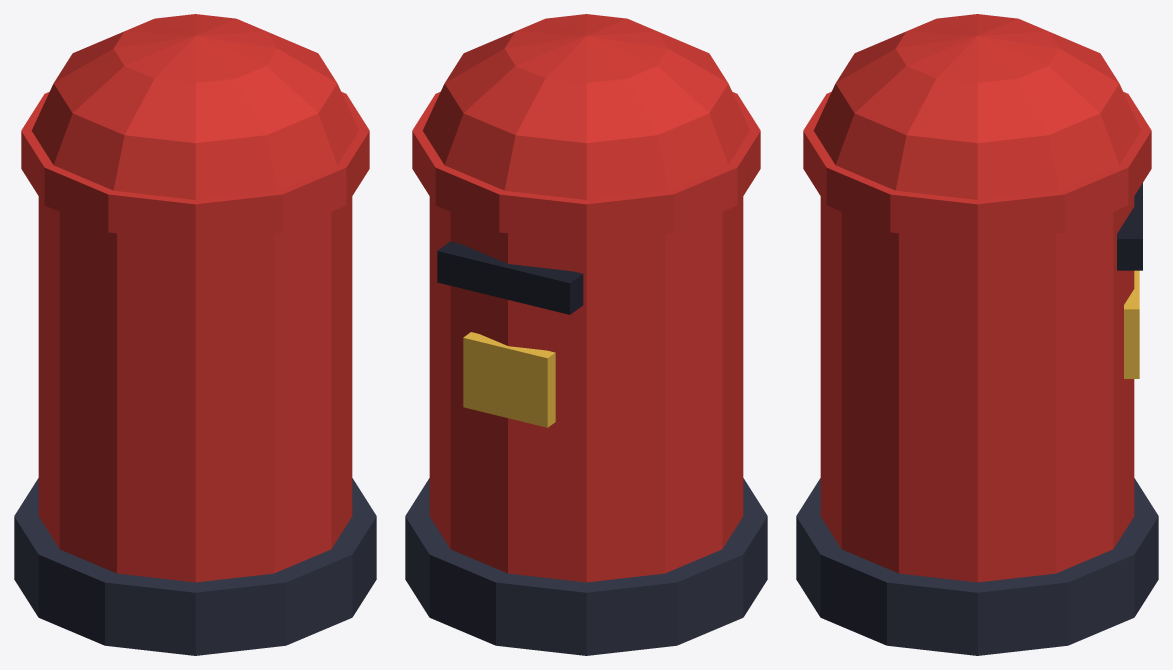
The model's file is postbox.glb.
The picture shows the model from 3 angles, left to right: view 1: azimuth 30°, elevation 25°; view 2: azimuth 150°, elevation 25°; view 3: azimuth 270°, elevation 25°; orthographic projection.
Visible parts, largest first — view 1: body, cap, plinth, cap-rim; view 2: body, cap, plinth, cap-rim, plate, slot; view 3: body, cap, plinth, cap-rim, slot, plate.
Part boxes in pixels (box(x1,y1,x2,y2)): body: box(38, 196, 352, 582); cap: box(31, 14, 359, 199); plinth: box(14, 478, 376, 655); cap-rim: box(21, 92, 369, 242); body: box(429, 196, 743, 582); cap: box(422, 14, 750, 199); plinth: box(405, 478, 767, 655); cap-rim: box(412, 92, 760, 242); plate: box(463, 332, 555, 427); slot: box(437, 241, 583, 314); body: box(820, 196, 1134, 582); cap: box(813, 14, 1141, 199); plinth: box(796, 478, 1158, 655); cap-rim: box(803, 92, 1151, 242); slot: box(1117, 183, 1142, 270); plate: box(1124, 270, 1139, 378).
Size of the model in its own units: 0.104 by 0.172 by 0.104.
